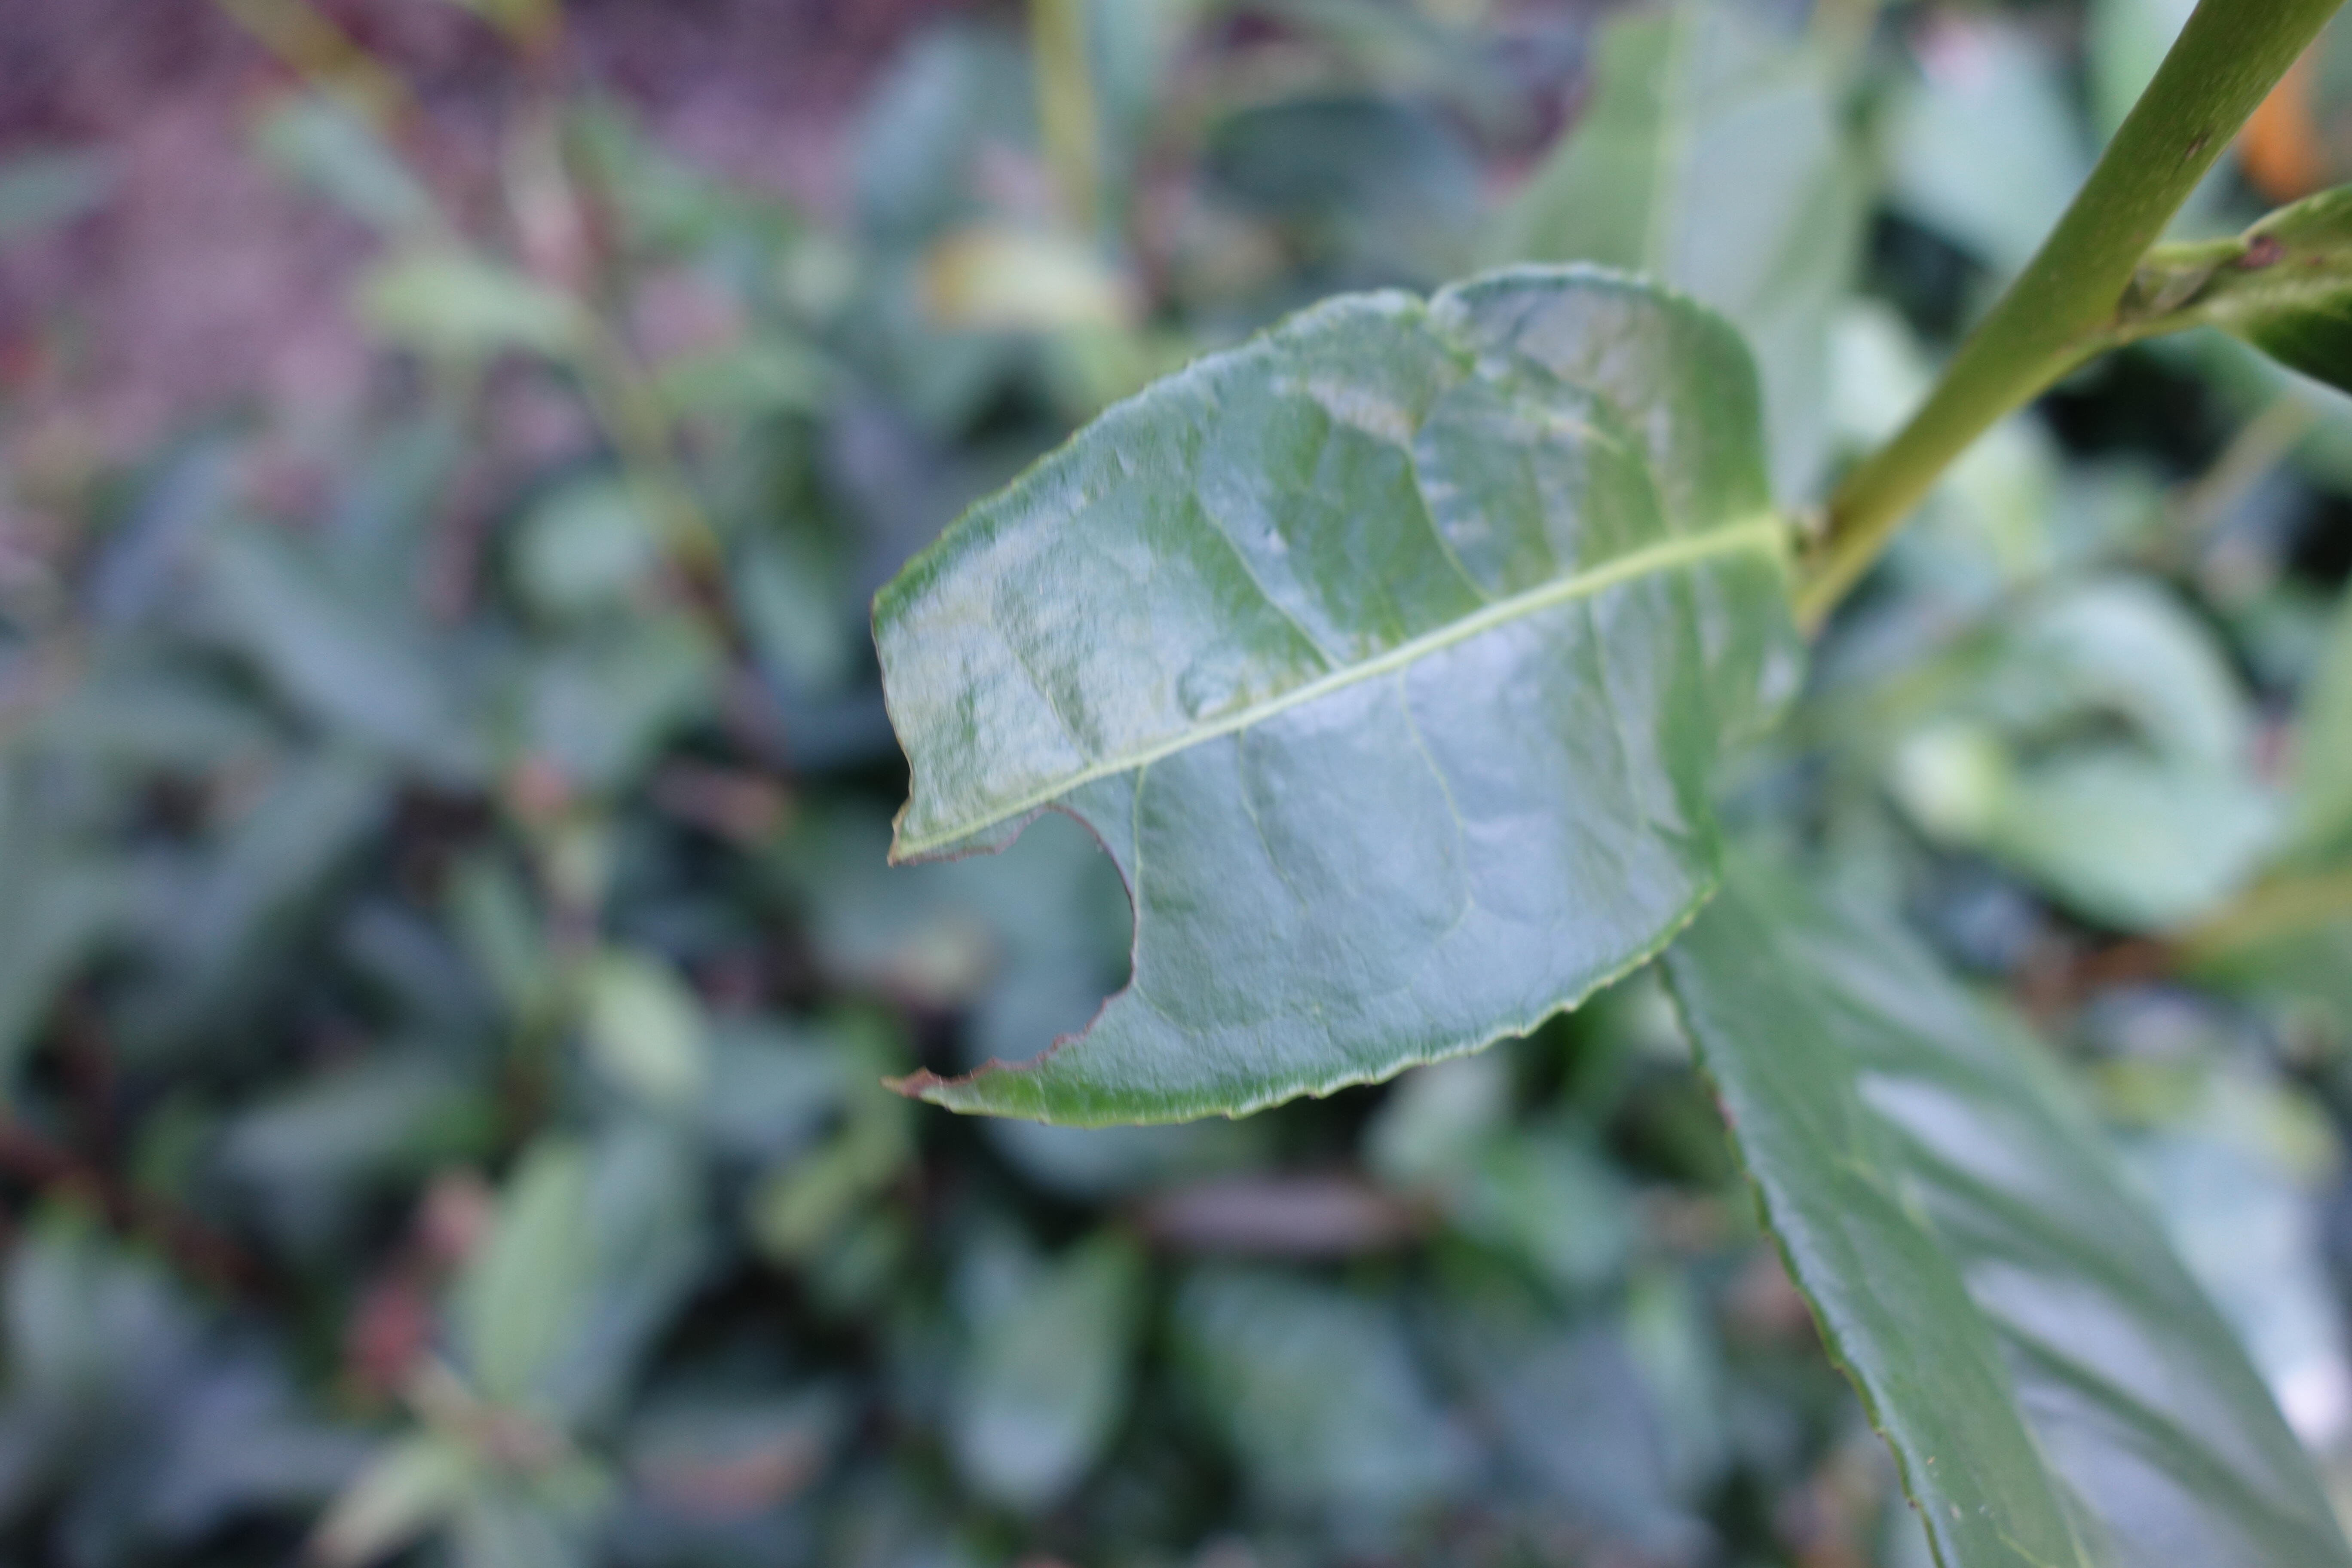chihuo_high: (864, 261, 1811, 1129)
